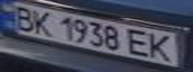1: (51, 13, 75, 42)
3: (84, 19, 106, 48)
8: (103, 22, 124, 52)
9: (69, 16, 90, 44)
B: (6, 3, 39, 32)
E: (124, 28, 154, 57)
K: (145, 32, 181, 63), (27, 8, 57, 37)
